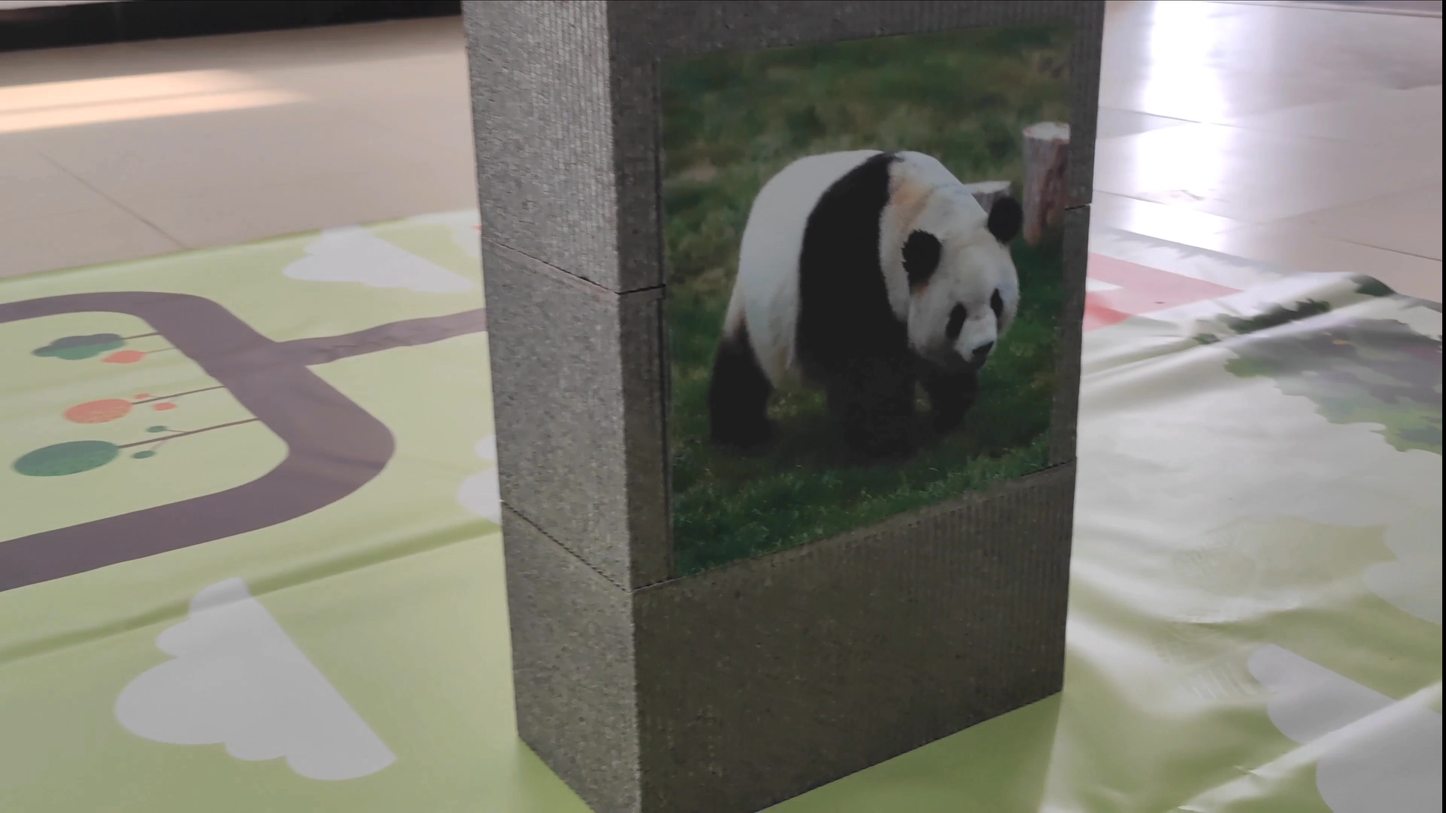panda: (686, 123, 1046, 504)
